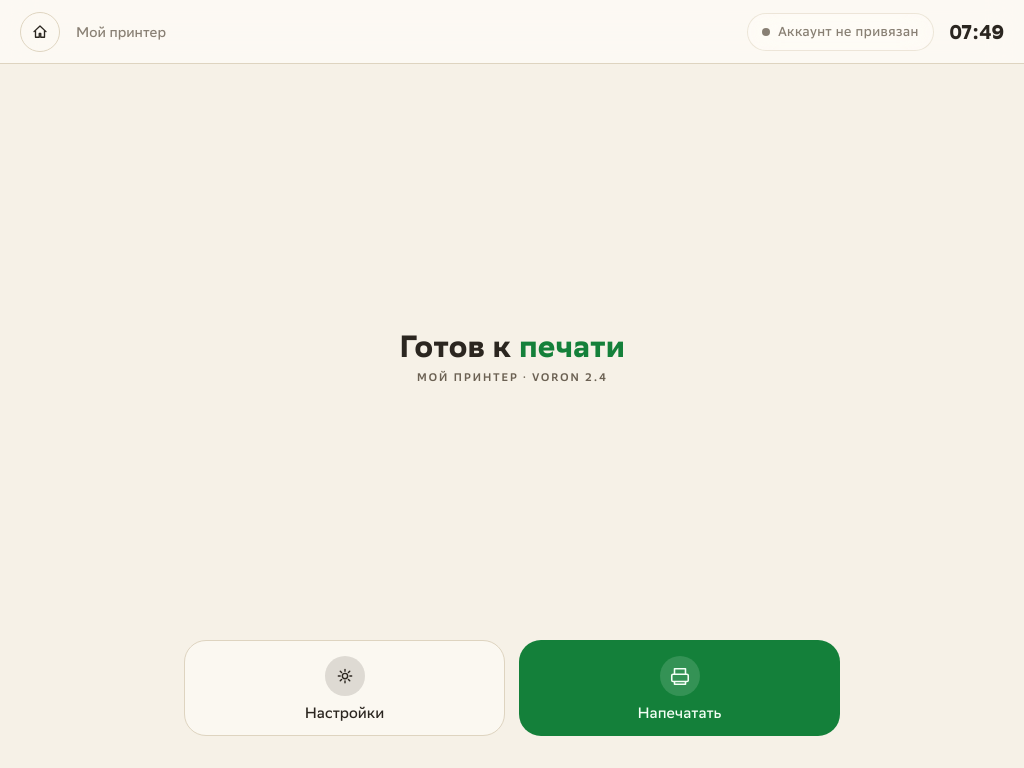
Test: PrinterFaceScreen › (a) «Настройки» → сцена (g), список статуса агента без привязанного аккаунта
The width and height of the screenshot is (1024, 768).
Click the button "Настройки". click: click(344, 688)
box: [184,640,505,736]
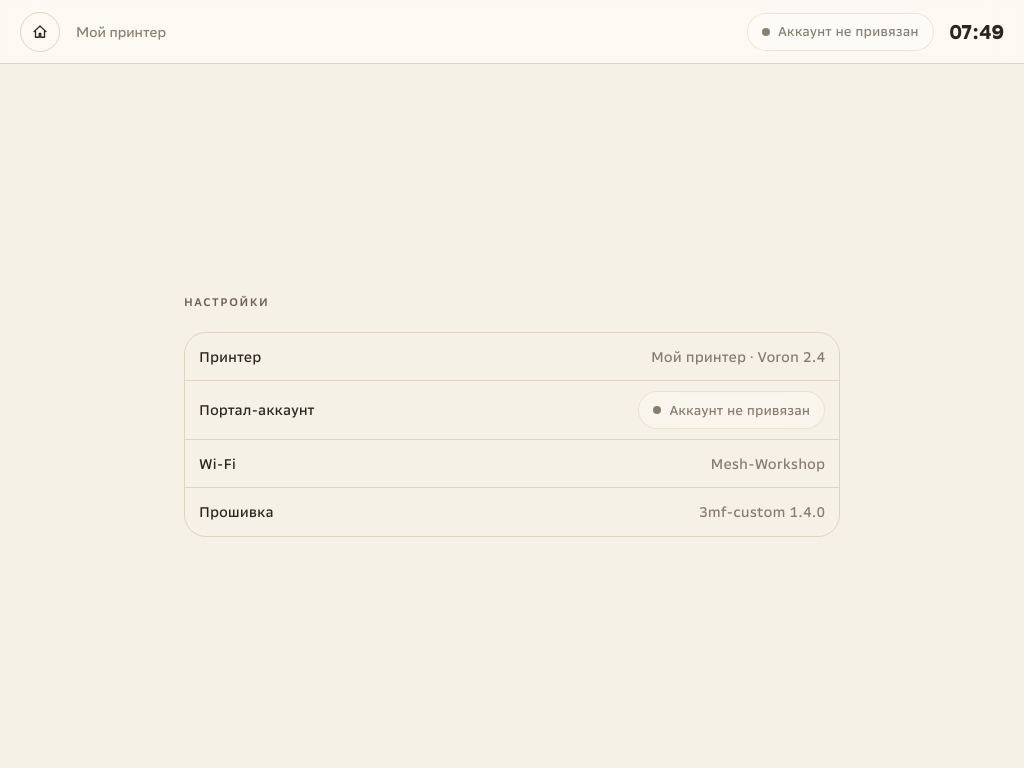
Check: the text "Wi-Fi" is shown, box [199,454,236,472]
